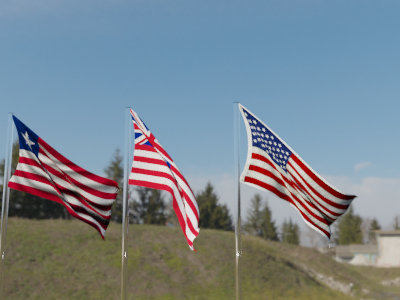America flag: (240, 100, 356, 241)
Liberia flag: (12, 112, 120, 241)
Malaysia flag: (131, 109, 203, 253)
